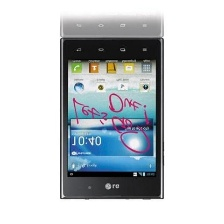phone: (55, 32, 170, 205)
